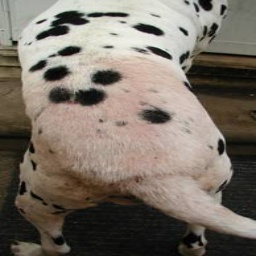dog: (16, 0, 236, 250)
